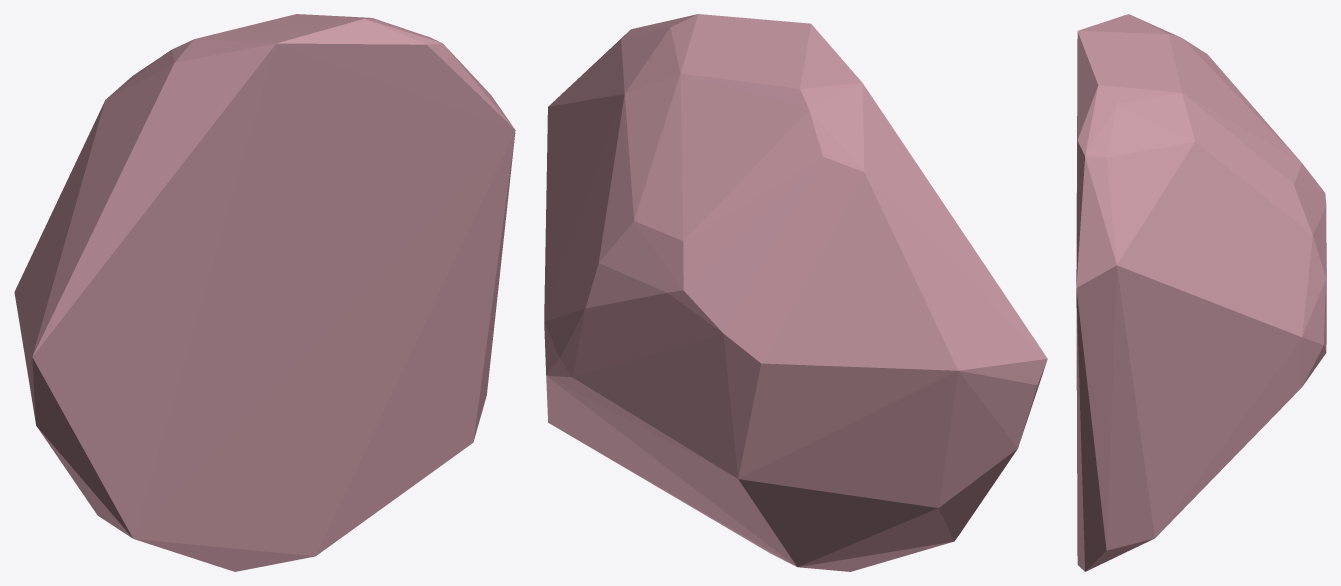
File: kitchenware_bowl_c01.glb
The picture shows the model from 3 angles, left to right: view 1: azimuth 30°, elevation 25°; view 2: azimuth 150°, elevation 25°; view 3: azimuth 270°, elevation 25°; orthographic projection. The views are drawn at different scales.
Visible parts, largest first — view 1: geometry_0; view 2: geometry_0; view 3: geometry_0.
Boxes of the visible parts, bbox=[...] form: geometry_0: bbox=[14, 14, 515, 571]; geometry_0: bbox=[544, 14, 1047, 571]; geometry_0: bbox=[1076, 14, 1326, 571].
Size of the model in its own units: 0.4448 by 0.4673 by 0.2058.
